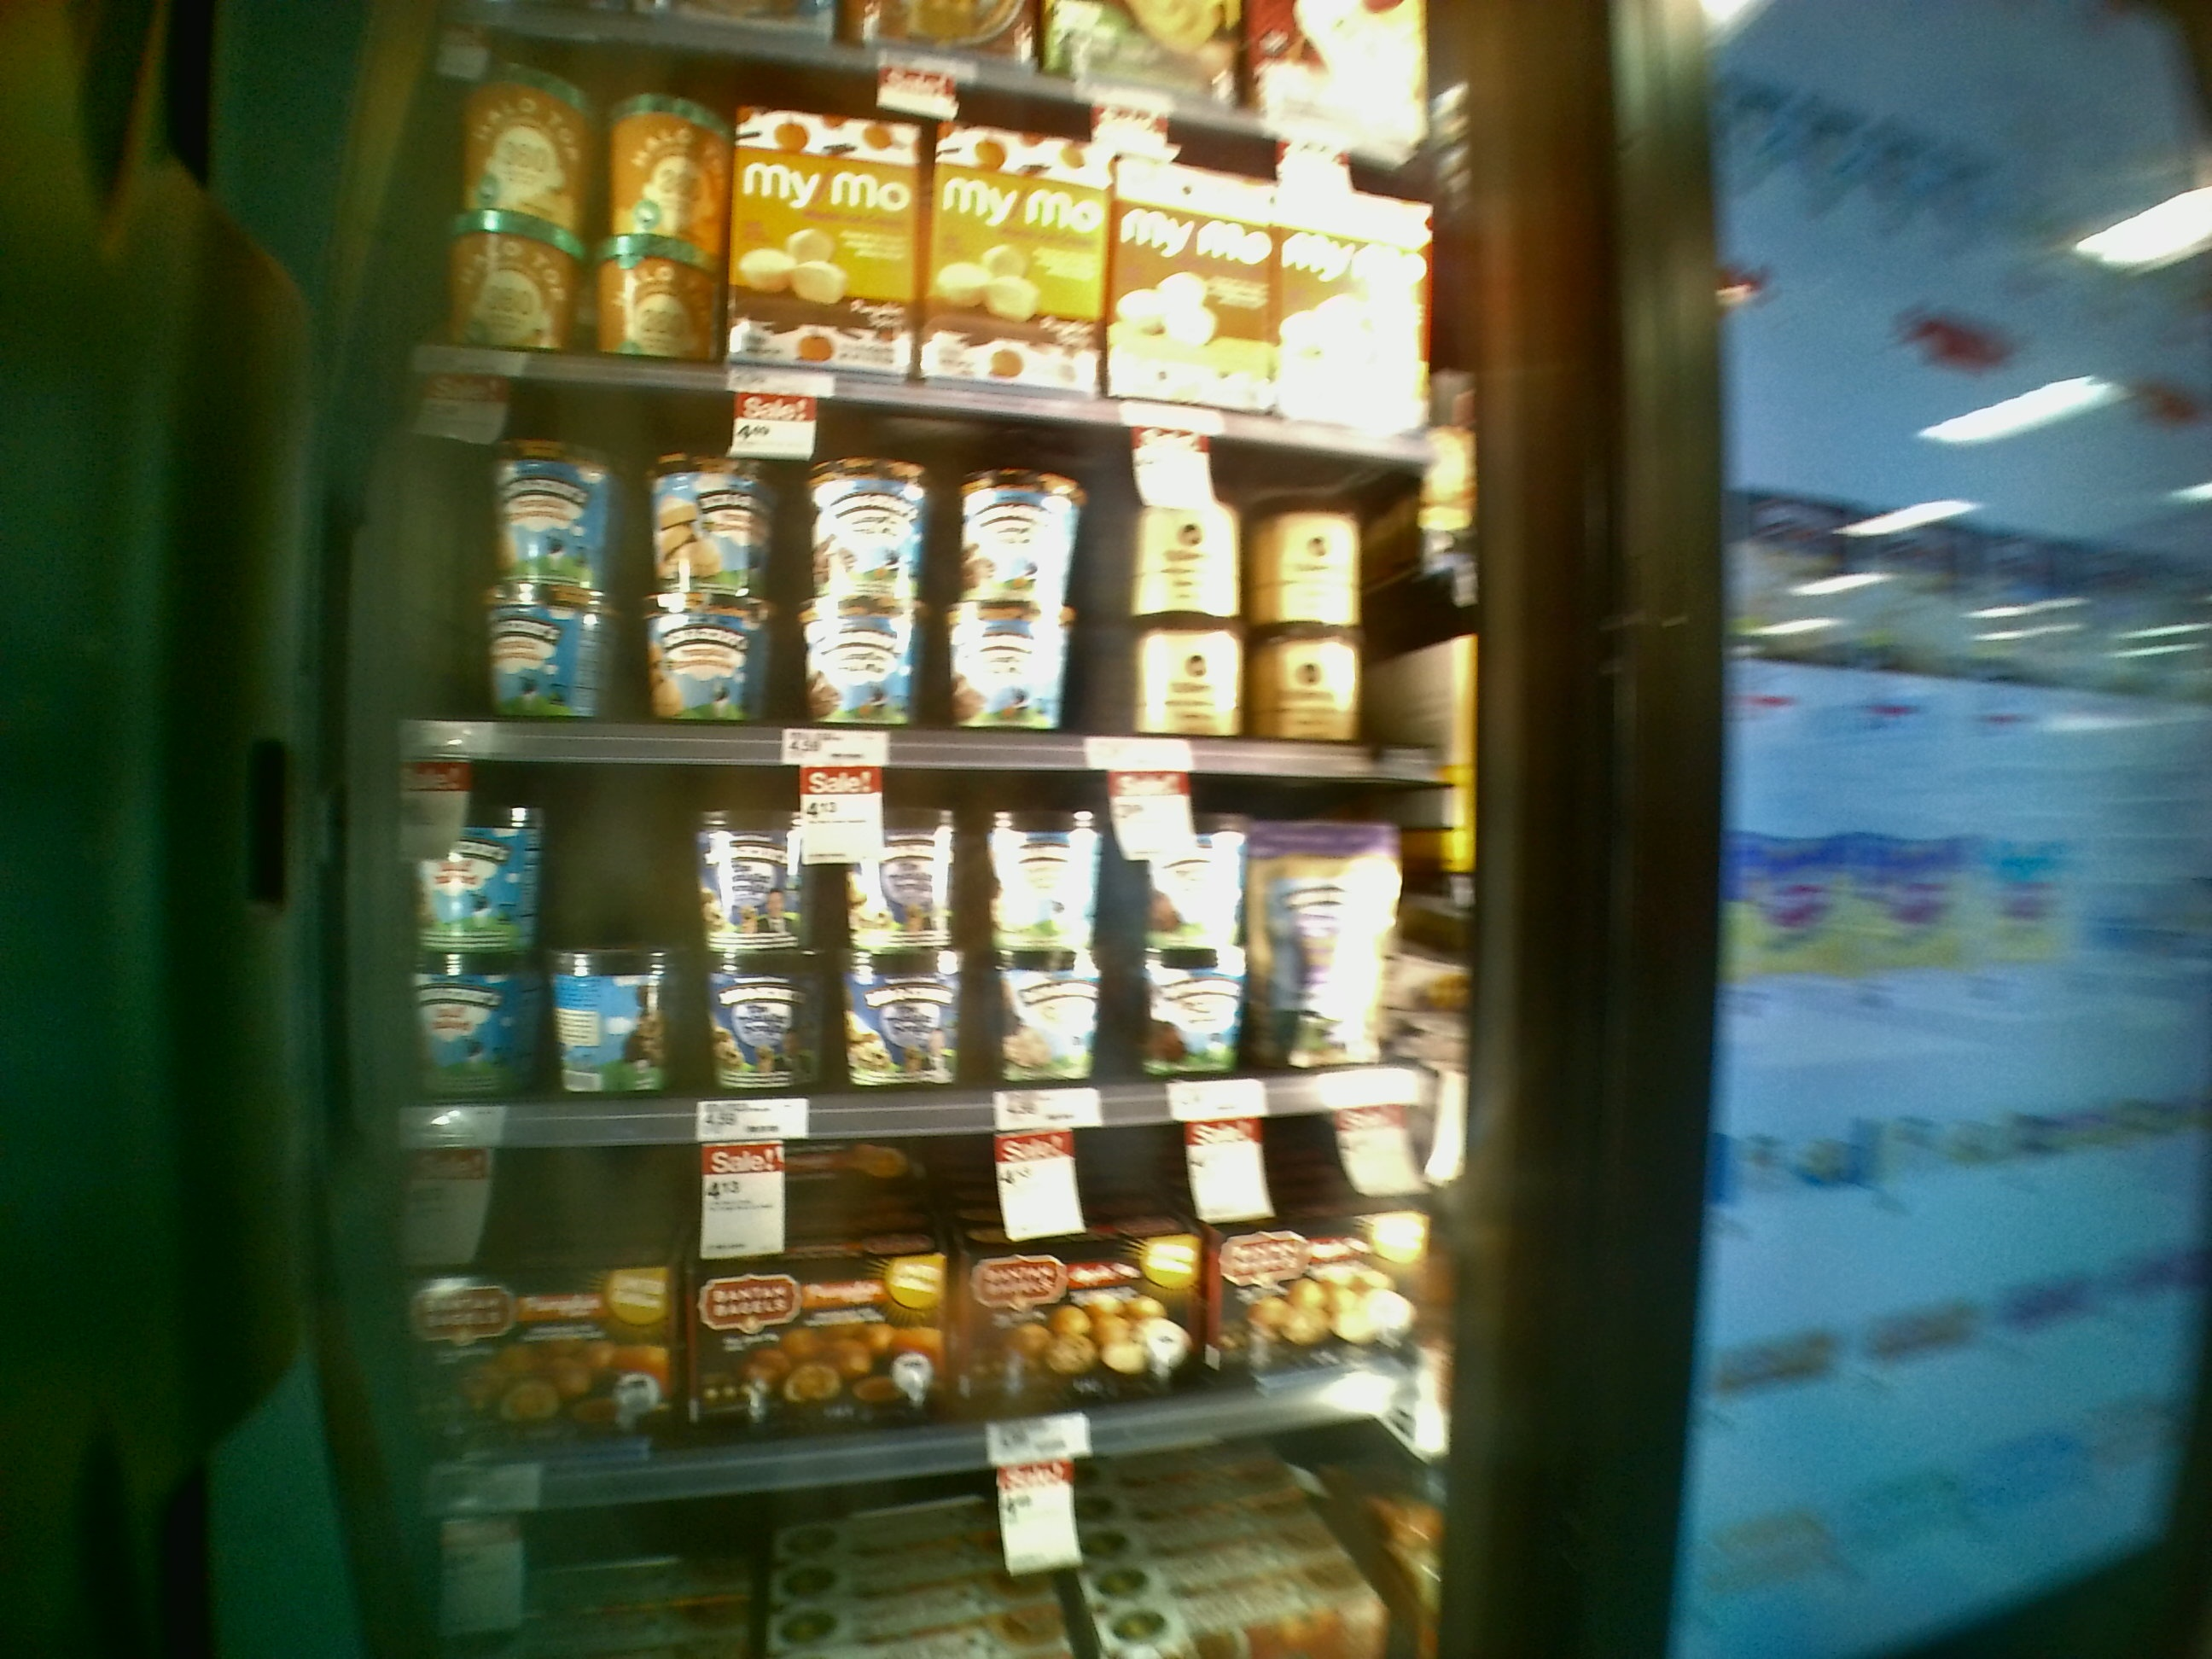shelf: (374, 369, 1470, 781), (350, 749, 1479, 1148), (327, 1115, 1479, 1502)
